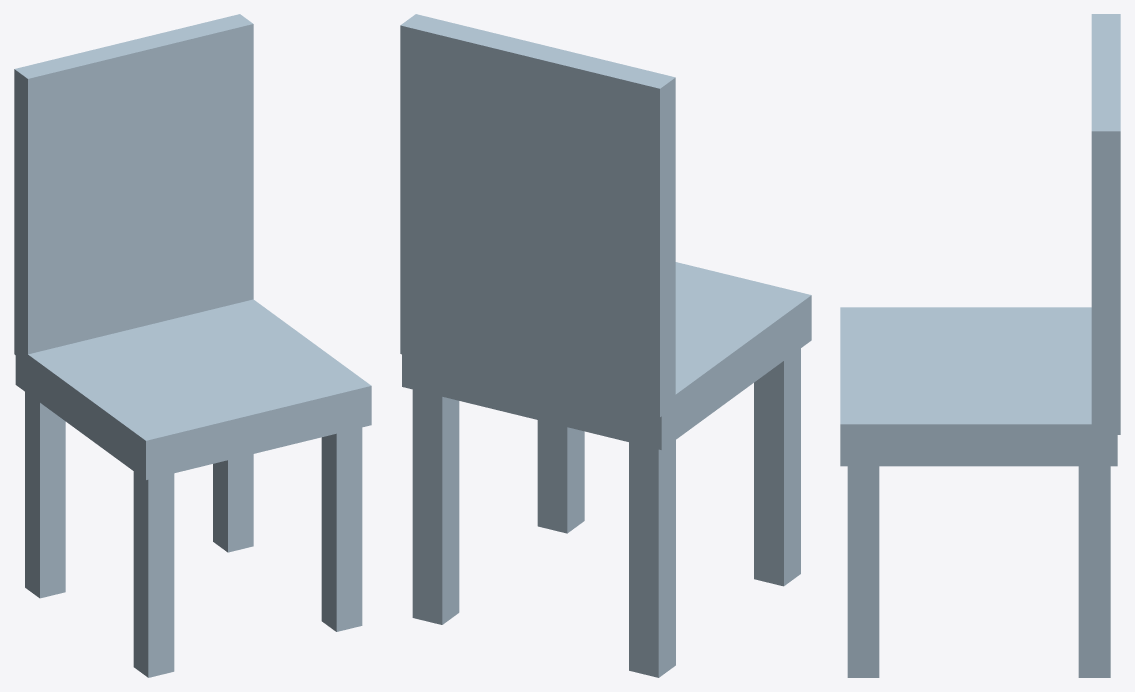
Rendered from chair.gltf.
3 views of the same model, side by side, from view 1: azimuth 30°, elevation 25°; view 2: azimuth 150°, elevation 25°; view 3: azimuth 270°, elevation 25° (orthographic). The views are drawn at different scales.
Size of the model in its own units: 0.48 by 1.05 by 0.485.
